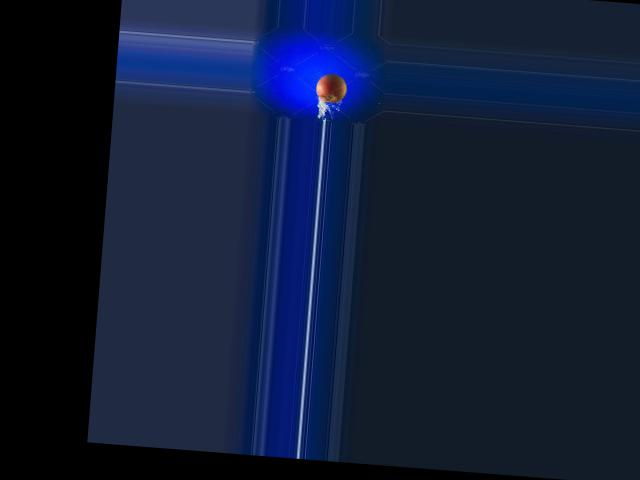tomato: (315, 73, 348, 103)
